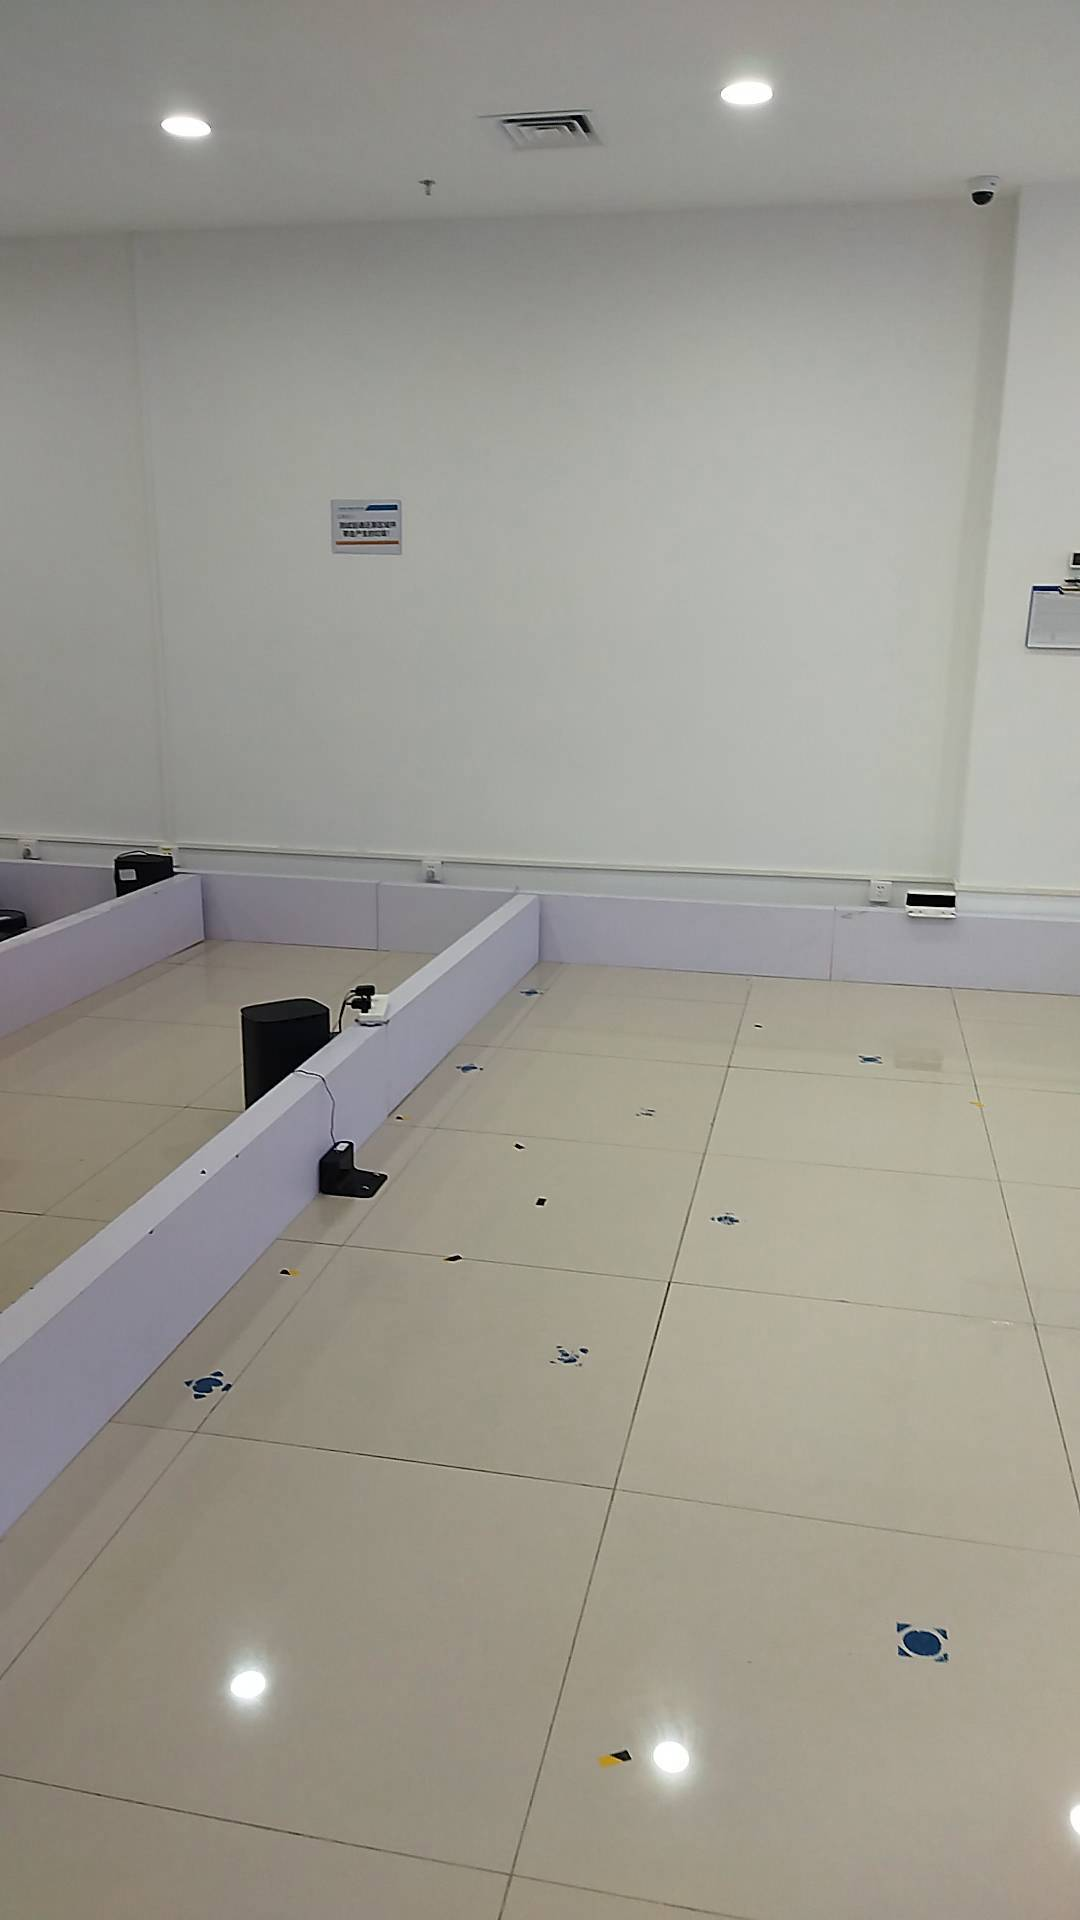dust collecting barrel: (239, 997, 332, 1113)
recharge seat: (318, 1138, 393, 1204), (899, 887, 964, 924)
